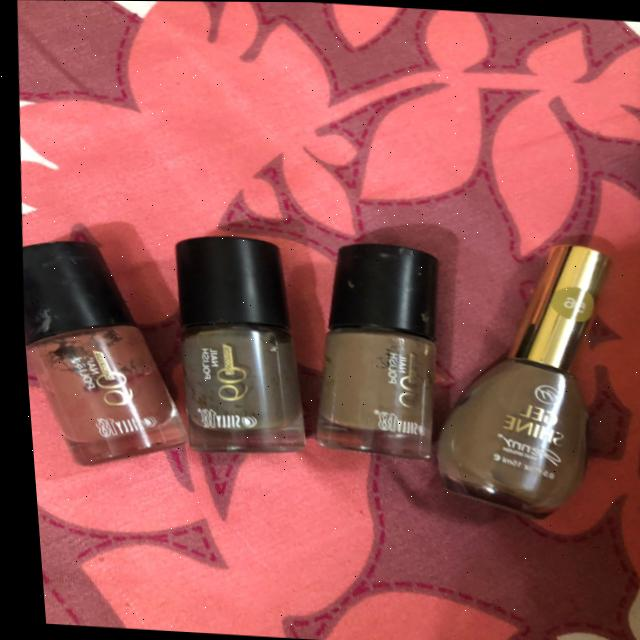nail polish: (409, 215, 640, 536), (13, 222, 207, 475), (144, 215, 342, 460), (287, 216, 469, 475)
